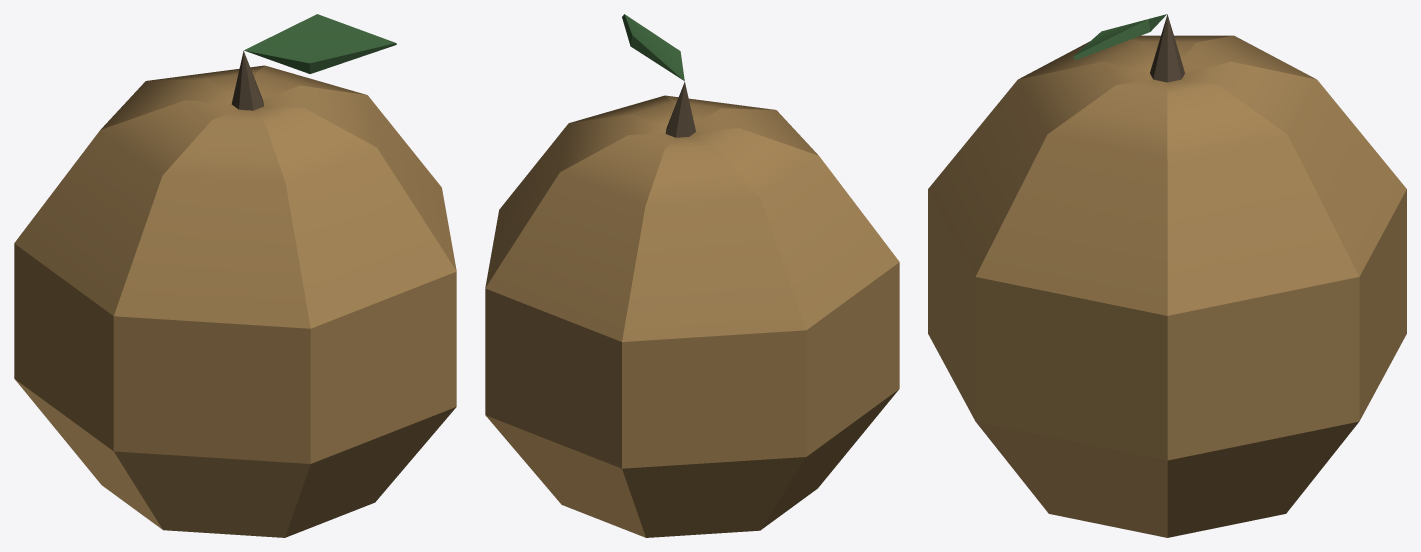
Rendered from Orange.fbx.
3 renders of one model, left to right at view 1: azimuth 30°, elevation 25°; view 2: azimuth 150°, elevation 25°; view 3: azimuth 270°, elevation 25°, orthographic. The views are drawn at different scales.
Visible parts, largest first — view 1: pSphere2; view 2: pSphere2; view 3: pSphere2.
Boxes of the visible parts, left/top/right/bottom form: pSphere2: left=14, top=14, right=456, bottom=537; pSphere2: left=485, top=14, right=899, bottom=537; pSphere2: left=928, top=14, right=1406, bottom=537.
Bounding box in the file's own units: 1.81 × 2.28 × 1.85.
